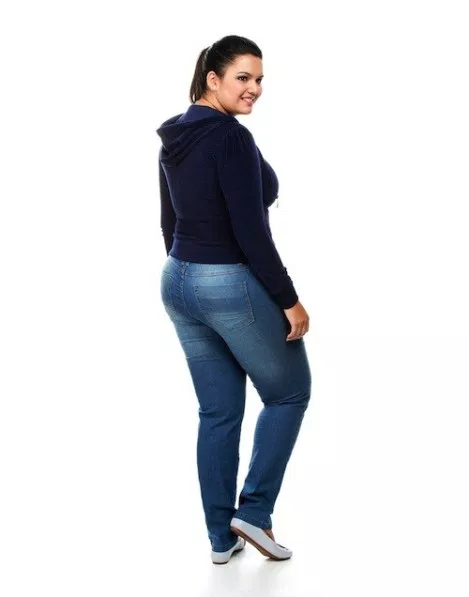Humano: (153, 24, 314, 567)
